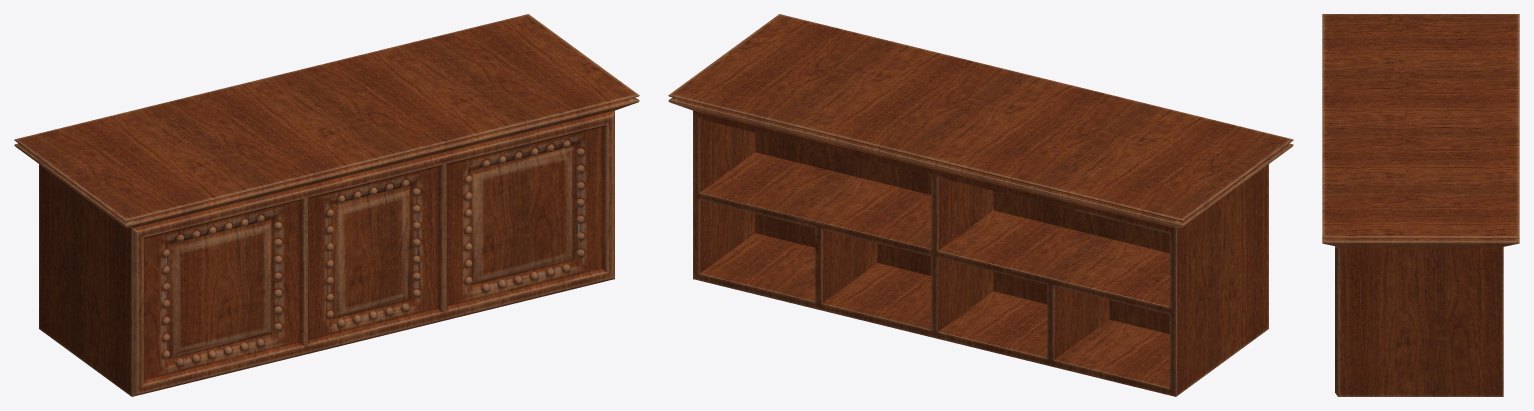
Rendered from saloon_counter.glb.
3 views of the same model, side by side, from view 1: azimuth 30°, elevation 25°; view 2: azimuth 150°, elevation 25°; view 3: azimuth 270°, elevation 25° (orthographic). The views are drawn at different scales.
Visible parts, largest first — view 1: Object_3, Object_2; view 2: Object_3, Object_2; view 3: Object_3, Object_2.
Boxes of the visible parts, bbox=[...] form: Object_3: bbox=[14, 14, 639, 396]; Object_2: bbox=[14, 100, 639, 393]; Object_3: bbox=[668, 14, 1293, 396]; Object_2: bbox=[668, 100, 1293, 396]; Object_3: bbox=[1322, 14, 1519, 396]; Object_2: bbox=[1322, 241, 1519, 242].
Bounding box in the file's own units: 62.86 × 21.85 × 23.5.
1 material, 1 textured.
